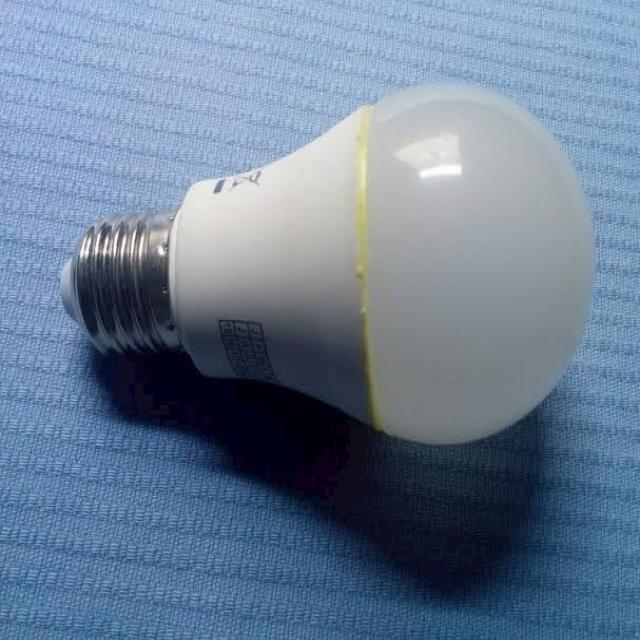bulb: (58, 99, 593, 449)
